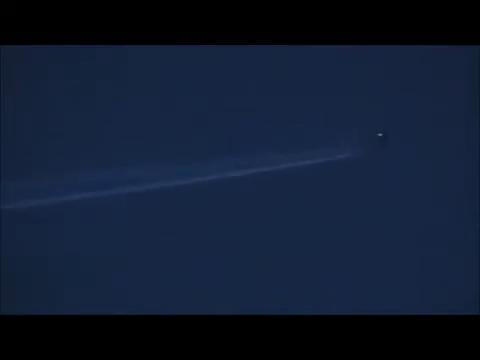Plane: (187, 120, 410, 195)
